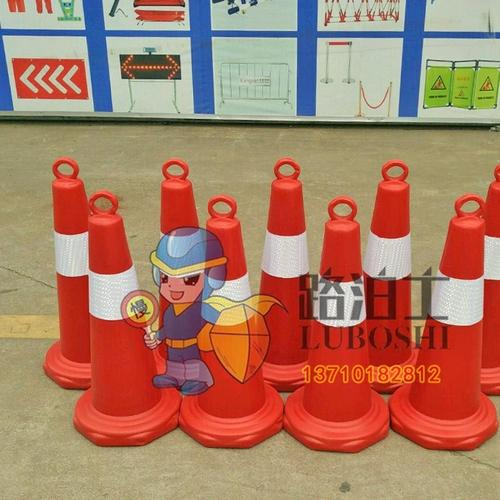cone_barrel: (289, 179, 387, 451), (398, 185, 494, 444), (75, 194, 163, 434), (184, 199, 272, 434), (253, 153, 315, 390), (42, 161, 96, 387), (361, 166, 417, 383), (202, 200, 252, 304), (155, 159, 201, 247)
